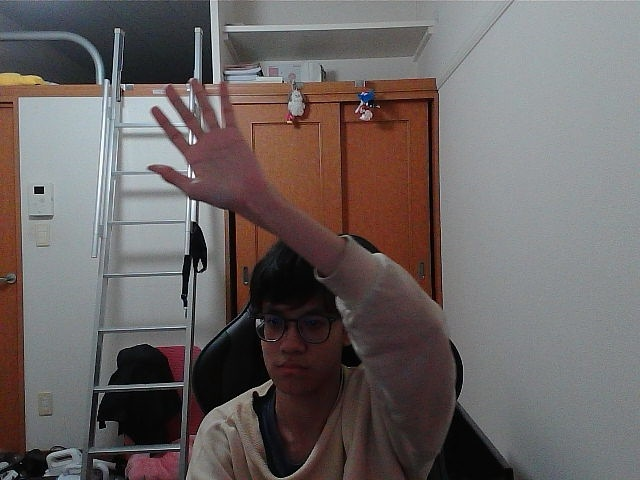open_palm: (156, 82, 245, 199)
